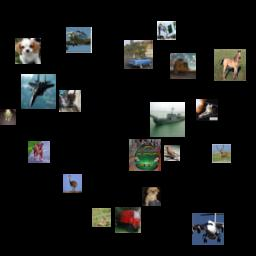airplane: (21, 74, 56, 109), (192, 213, 224, 245), (66, 27, 92, 53)
automobile: (129, 139, 161, 171), (124, 40, 153, 69)
bird: (92, 208, 111, 227), (63, 174, 82, 193), (164, 145, 180, 161)
cat: (196, 99, 218, 121), (59, 90, 81, 112)
deer: (212, 144, 231, 163)
dog: (15, 38, 41, 64), (28, 141, 50, 163), (142, 187, 161, 206), (0, 109, 16, 125)
ship: (150, 102, 185, 137)
truck: (115, 207, 141, 233), (170, 53, 196, 79), (157, 21, 176, 40)
